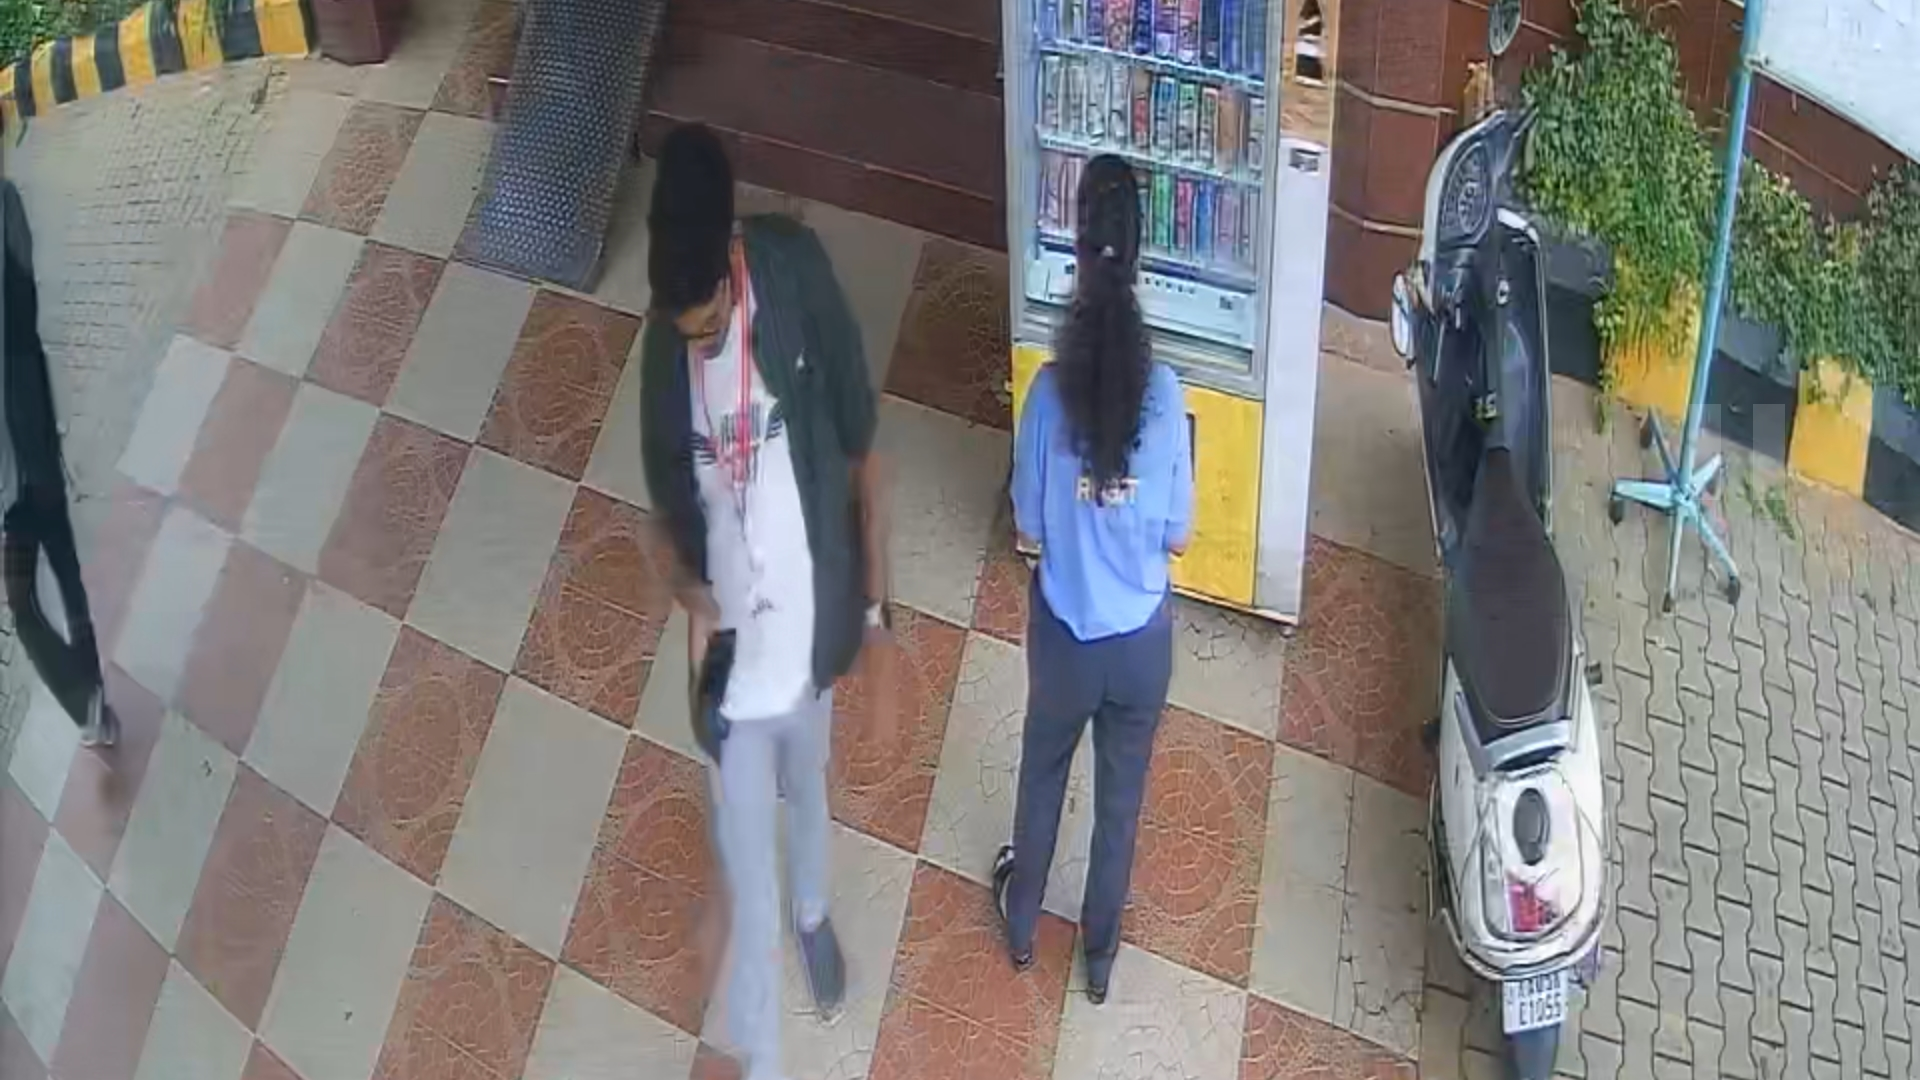not intruder: (616, 92, 885, 1080)
